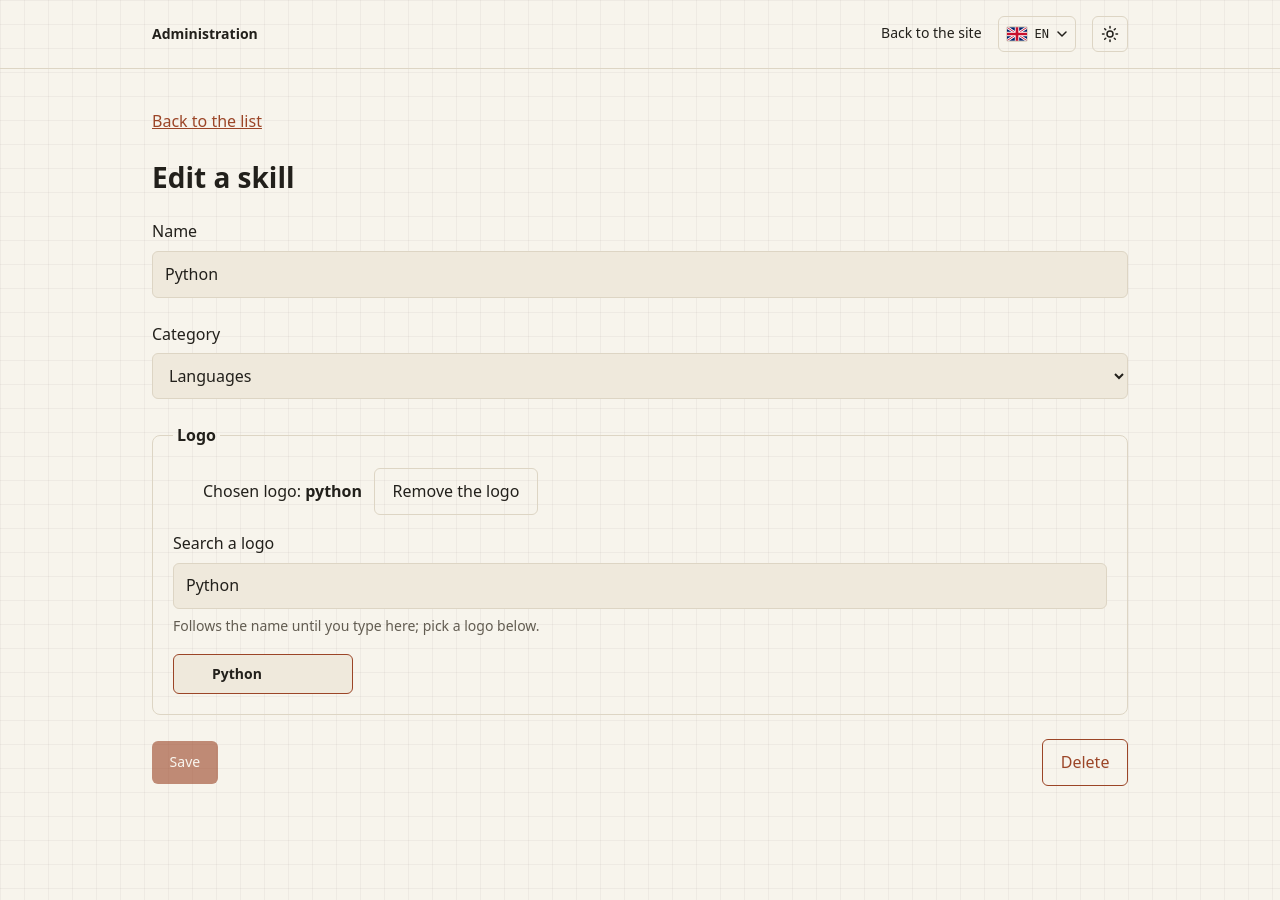
Test: editing a skill › removes the logo and saves without it
This screenshot has width=1280, height=900.
Expected: the field labelled "Name" holds "Python", [152,251,1128,298]
Click the button "Remove the logo": (456, 492) [374,468,538,515]
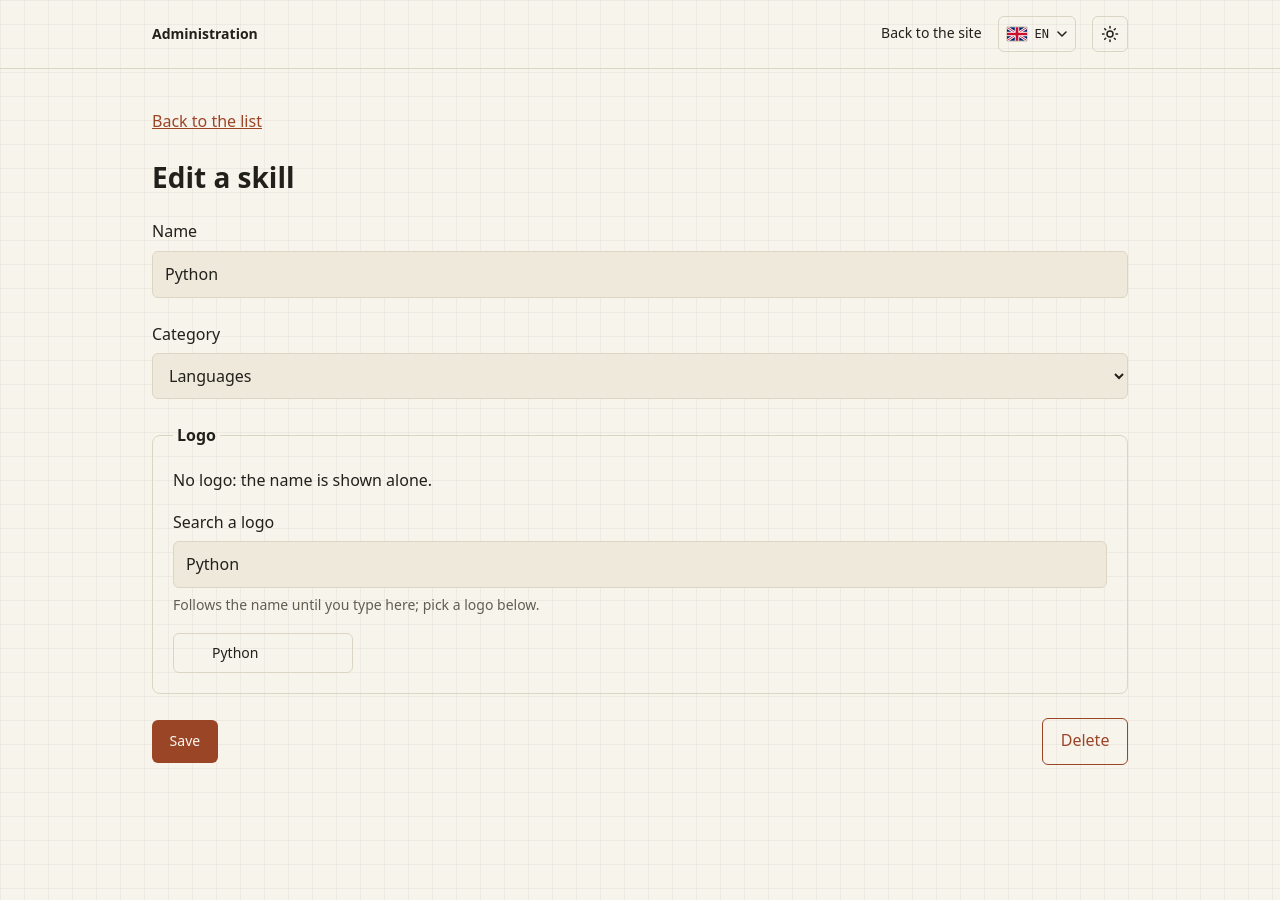
Result: the text "No logo: the name is shown alone." is shown at [173,469,432,491]
Click the button "Save": (185, 741) [152,720,218,763]
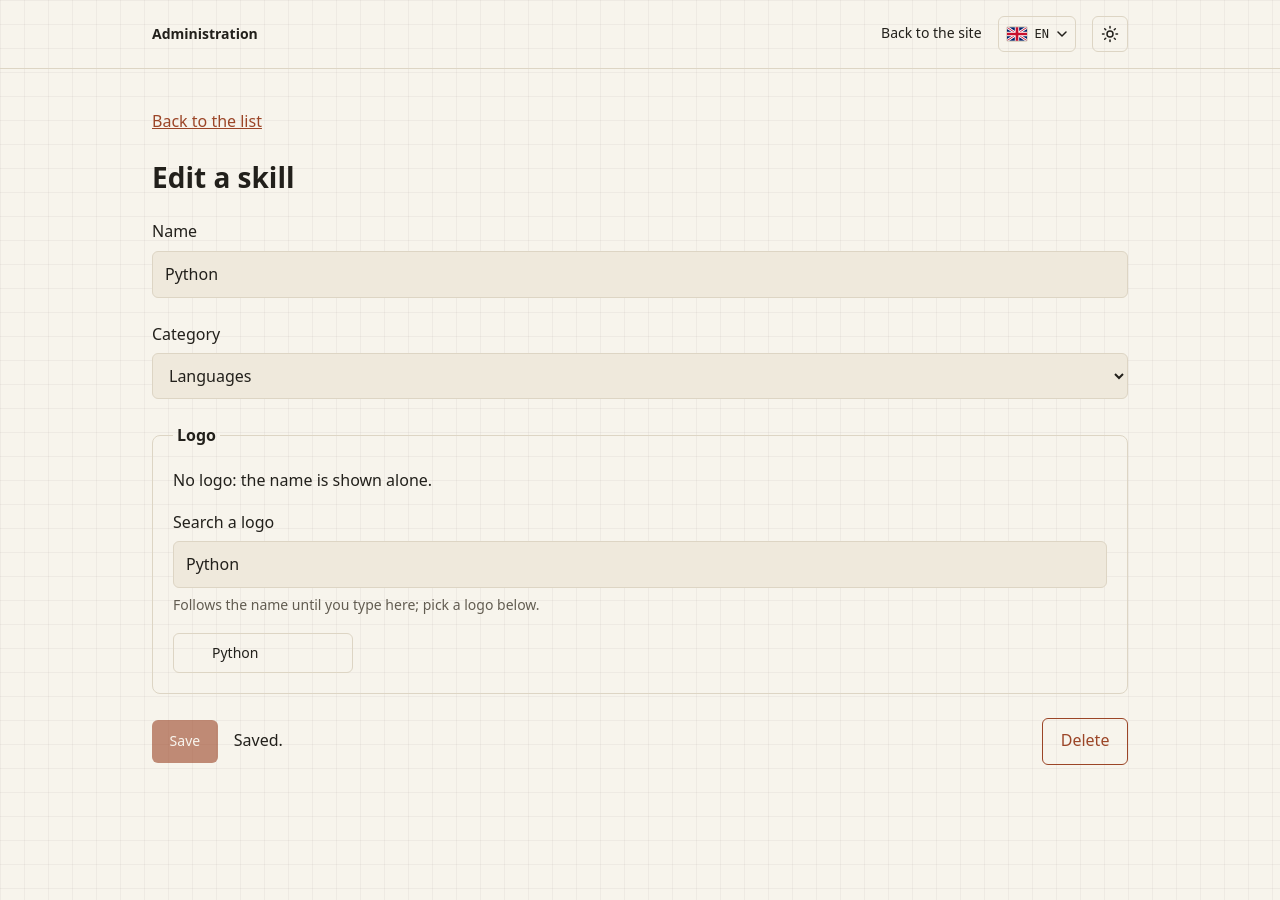
Result: the text "Saved." is shown at [234,728,283,754]
